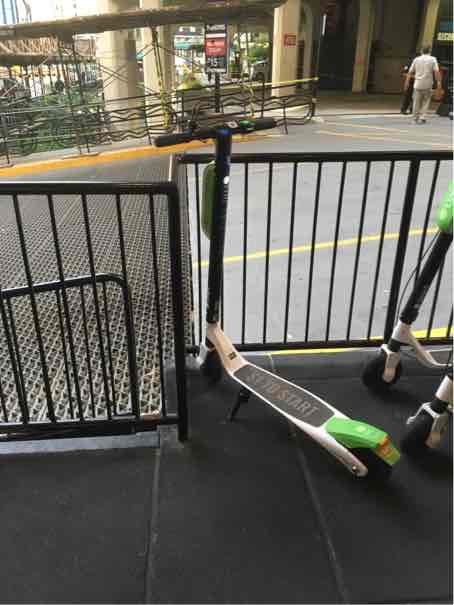scooter: (149, 111, 409, 491)
